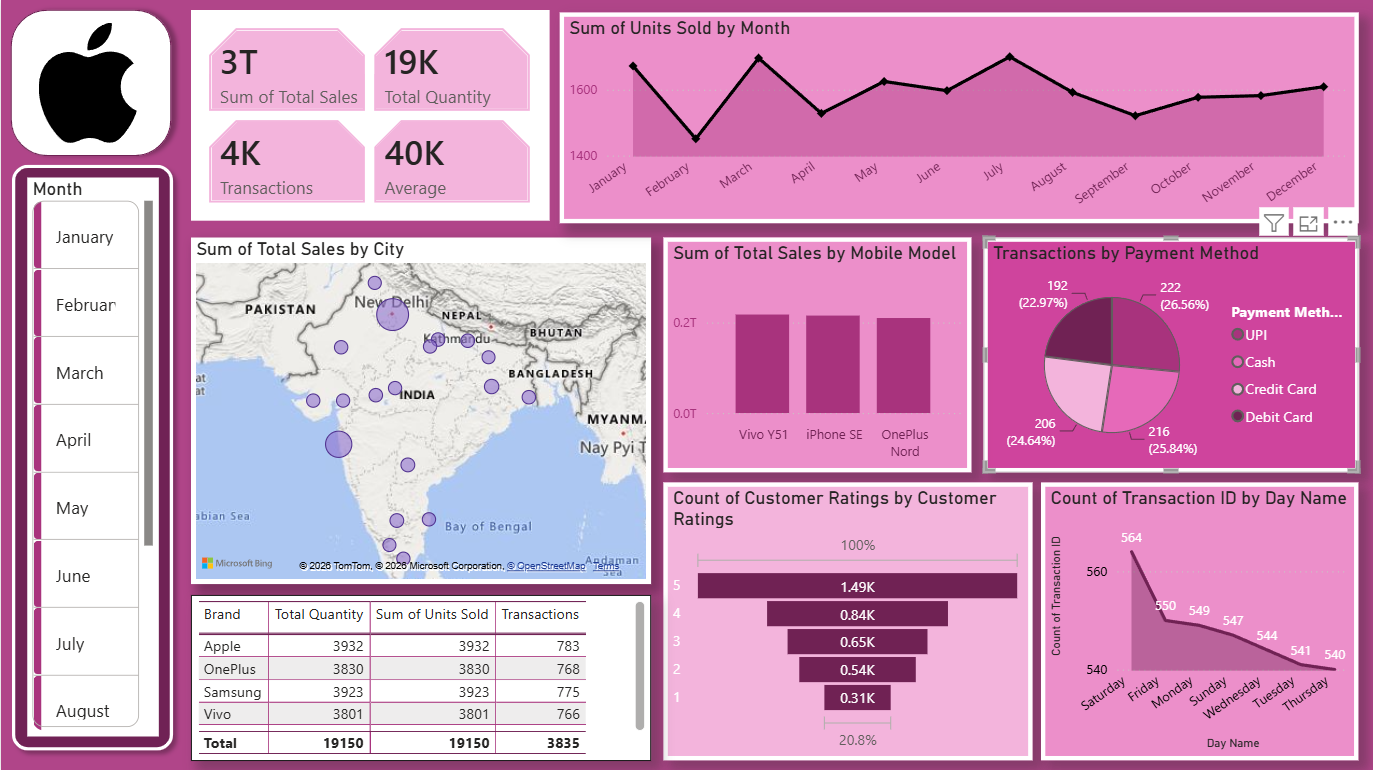

This screenshot's page, from the dashboard's own definition file:
{"tool":"powerbi","page":{"name":"Page 1","canvas":[1280,720],"ordinal":0},"visuals":[{"type":"shape","box":[0,0,167.5,154.2],"z":0},{"type":"image","box":[15.7,20.5,131.3,112],"z":1000},{"type":"shape","box":[1.2,144.4,167.9,563],"z":2000},{"type":"advancedSlicerVisual","fields":{"Values":["Sales_Data.Date.Variation.Date Hierarchy.Month"]},"box":[24.7,165.4,122.2,519.8],"z":3000},{"type":"cardVisual","fields":{"Data":["Sum(Sales_Data.Total Sales)","Sales_Data.Total Quantity","Sales_Data.Total Transactions","Sales_Data.Average"]},"box":[176.5,9.9,333.3,196.3],"z":4000},{"type":"map","fields":{"Category":["Sales_Data.City"],"Size":["Sum(Sales_Data.Total Sales)"]},"box":[176.5,221,428.4,322.2],"z":5000},{"type":"lineChart","fields":{"Y":["Sum(Sales_Data.Units Sold)"],"Category":["Sales_Data.Date.Variation.Date Hierarchy.Month"]},"box":[519.8,11.1,743.2,196.3],"z":6000},{"type":"clusteredColumnChart","fields":{"Category":["Sales_Data.Mobile Model"],"Y":["Sum(Sales_Data.Total Sales)"]},"box":[616,221,286.4,218.5],"z":7000},{"type":"pieChart","fields":{"Y":["Sales_Data.Transactions"],"Category":["Sales_Data.Payment Method"]},"box":[913.6,221,349.4,218.5],"z":8000},{"type":"funnel","fields":{"Category":["Sales_Data.Customer Ratings"],"Y":["CountNonNull(Sales_Data.Customer Ratings)"]},"box":[616,449.4,343.2,258],"z":9000},{"type":"areaChart","fields":{"Category":["Sales_Data.Day Name"],"Y":["CountNonNull(Sales_Data.Transaction ID)"]},"box":[967.9,449.4,295.1,258],"z":9001},{"type":"tableEx","fields":{"Values":["Sales_Data.Brand","Sales_Data.Total Quantity","Sum(Sales_Data.Units Sold)","Sales_Data.Transactions"]},"box":[176.5,553.1,428.4,154.3],"z":9002},{"type":"actionButton","box":[0,0,100,40],"z":9003}]}

Visuals, with their boxes in screenshot pixels (x1, y1, x2, y2), scaled from the page's 1280x720 canvas onto the 1373x770 screenshot:
shape: region(0, 0, 180, 165)
image: region(17, 22, 158, 142)
shape: region(1, 154, 181, 757)
advancedSlicerVisual - Sales_Data.Date.Variation.Date Hierarchy.Month: region(26, 177, 158, 733)
cardVisual - Sum(Sales_Data.Total Sales) x Sales_Data.Total Quantity: region(189, 11, 547, 221)
map - Sales_Data.City x Sum(Sales_Data.Total Sales): region(189, 236, 649, 581)
lineChart - Sum(Sales_Data.Units Sold) x Sales_Data.Date.Variation.Date Hierarchy.Month: region(558, 12, 1355, 222)
clusteredColumnChart - Sales_Data.Mobile Model x Sum(Sales_Data.Total Sales): region(661, 236, 968, 470)
pieChart - Sales_Data.Transactions x Sales_Data.Payment Method: region(980, 236, 1355, 470)
funnel - Sales_Data.Customer Ratings x CountNonNull(Sales_Data.Customer Ratings): region(661, 481, 1029, 757)
areaChart - Sales_Data.Day Name x CountNonNull(Sales_Data.Transaction ID): region(1038, 481, 1355, 757)
tableEx - Sales_Data.Brand x Sales_Data.Total Quantity: region(189, 592, 649, 757)
actionButton: region(0, 0, 107, 43)
